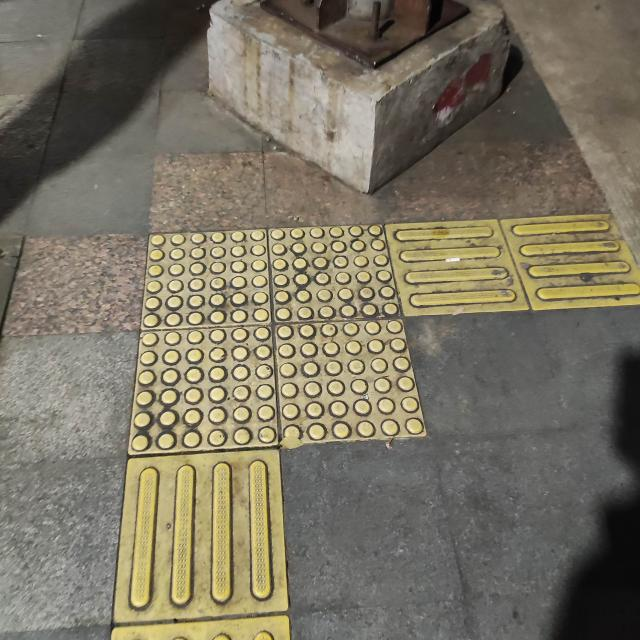kanan: (89, 174, 618, 529)
